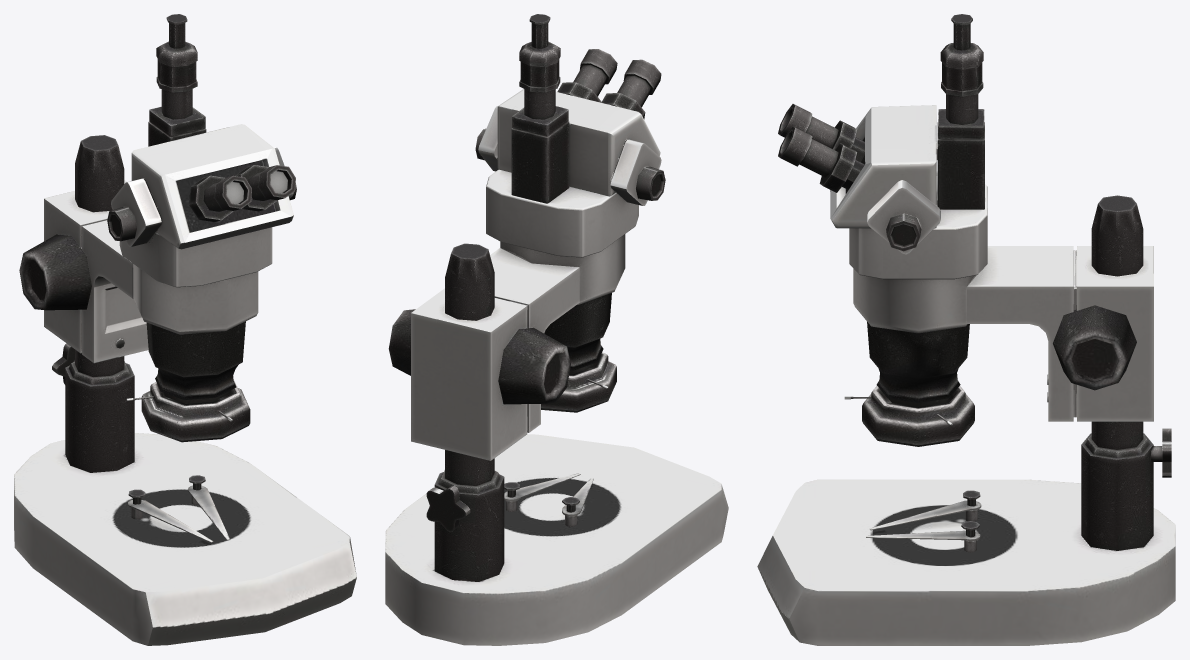
File: Microscope_AAndino.fbx
3 views of the same model, side by side, from view 1: azimuth 30°, elevation 25°; view 2: azimuth 150°, elevation 25°; view 3: azimuth 270°, elevation 25° (orthographic). The views are drawn at different scales.
Visible parts, largest first — view 1: polySurface43, polySurface23, polySurface27, polySurface32; view 2: polySurface43, polySurface27, polySurface23, polySurface38; view 3: polySurface43, polySurface38, polySurface23, polySurface25, polySurface32.
Boxes of the visible parts, x1,y1,x2,y2 form: polySurface43: [14, 14, 356, 645]; polySurface23: [235, 165, 295, 211]; polySurface27: [111, 178, 161, 247]; polySurface32: [128, 500, 213, 542]; polySurface43: [385, 14, 728, 645]; polySurface27: [610, 139, 661, 205]; polySurface23: [557, 49, 617, 102]; polySurface38: [388, 309, 415, 375]; polySurface43: [757, 14, 1175, 645]; polySurface38: [1053, 305, 1136, 390]; polySurface23: [778, 126, 864, 192]; polySurface25: [886, 213, 921, 251]; polySurface32: [869, 500, 981, 530].
Size of the model in its own units: 1.09 by 2.63 by 1.72.
